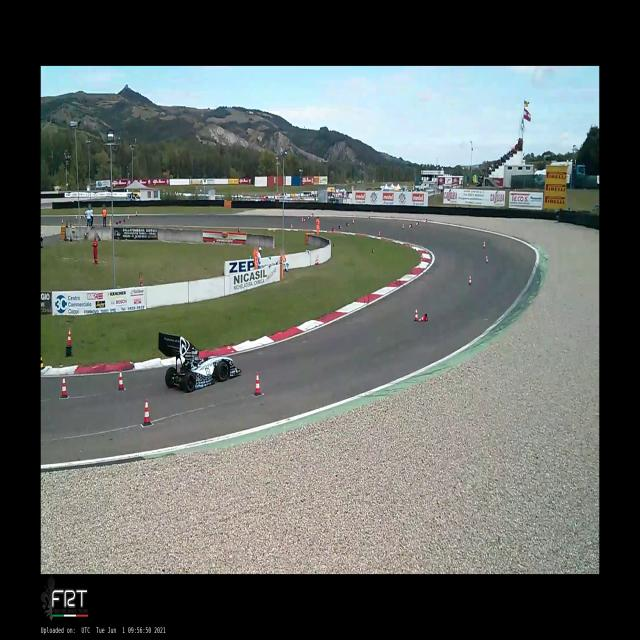large_orange_cone: (141, 399, 152, 426), (253, 372, 262, 396), (60, 376, 68, 398), (66, 328, 72, 348), (118, 370, 124, 390), (419, 314, 428, 321), (414, 308, 418, 322), (468, 274, 472, 286), (485, 256, 488, 264), (378, 230, 381, 237), (307, 215, 311, 220), (317, 256, 319, 265), (483, 241, 485, 249), (408, 224, 412, 228), (415, 222, 419, 226), (315, 257, 317, 265), (338, 226, 342, 230), (402, 224, 404, 230), (424, 218, 427, 222), (303, 218, 306, 222), (352, 218, 354, 224), (75, 215, 77, 221), (332, 228, 335, 232), (127, 216, 129, 221), (346, 223, 349, 226), (302, 216, 303, 224), (311, 214, 313, 218), (291, 224, 293, 228), (119, 220, 121, 224), (116, 222, 118, 225), (62, 218, 63, 224), (80, 216, 82, 219), (124, 219, 125, 222)
